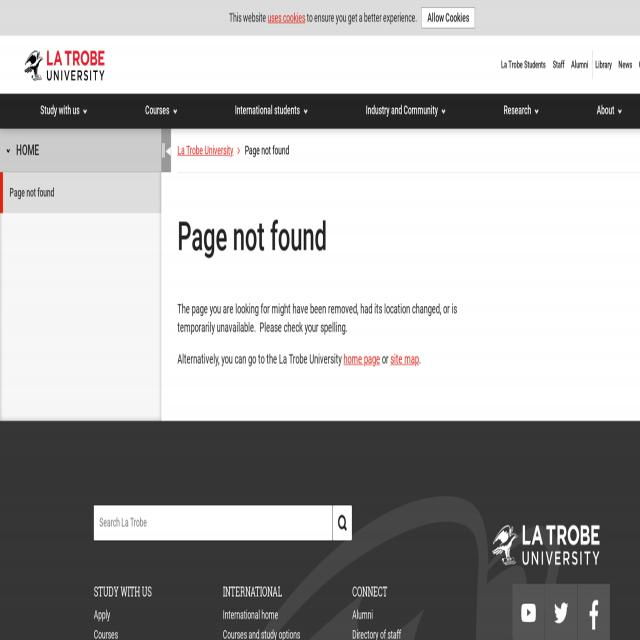button: (0, 129, 162, 172), (0, 172, 162, 213), (16, 36, 112, 95), (421, 8, 475, 28), (161, 129, 181, 172), (333, 505, 352, 540)
field: (94, 505, 332, 540)
